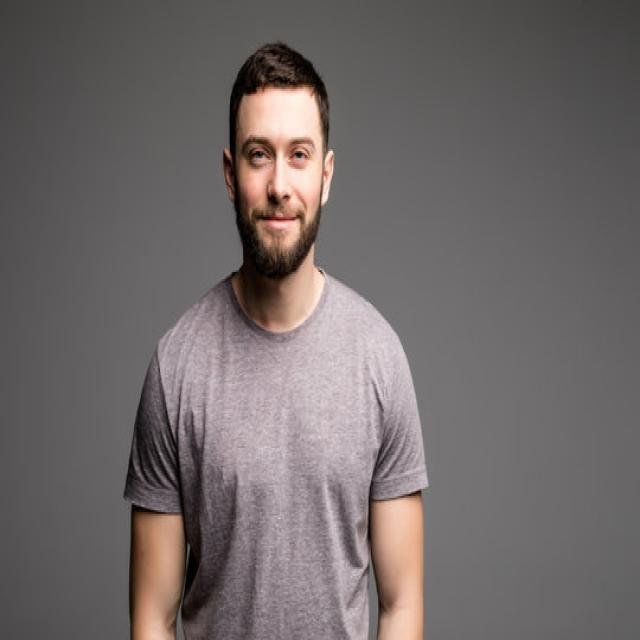Nonhelmet: (220, 39, 336, 281)
